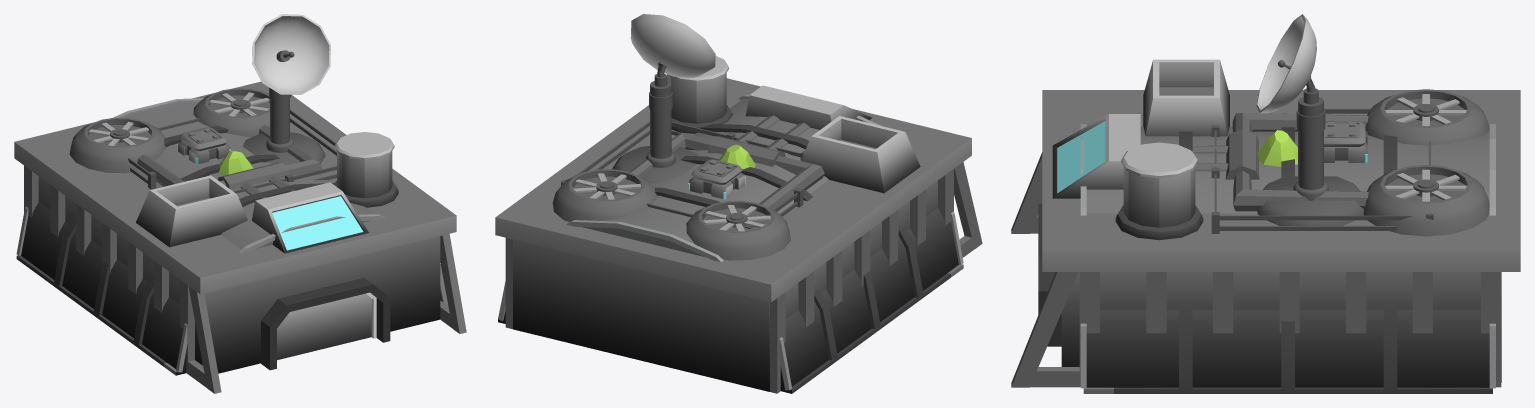
3 renders of one model, left to right at view 1: azimuth 30°, elevation 25°; view 2: azimuth 150°, elevation 25°; view 3: azimuth 270°, elevation 25°, orthographic. The views are drawn at different scales.
Visible parts, largest first — view 1: House_2, Hangar_1, House_1, Tree_1; view 2: House_2, Hangar_1, House_1, Tree_1; view 3: House_2, Hangar_1, House_1, Tree_1.
Boxes of the visible parts, <box> form: House_2: <box>14,81,466,393</box>; Hangar_1: <box>16,98,448,375</box>; House_1: <box>104,14,336,193</box>; Tree_1: <box>218,150,252,175</box>; House_2: <box>495,56,982,393</box>; Hangar_1: <box>498,94,963,393</box>; House_1: <box>561,14,804,228</box>; Tree_1: <box>718,144,755,169</box>; House_2: <box>1011,59,1520,387</box>; Hangar_1: <box>1080,124,1495,393</box>; House_1: <box>1211,14,1433,233</box>; Tree_1: <box>1257,130,1297,166</box>.
Bounding box in the file's own units: 1568 × 1565 × 1972.
